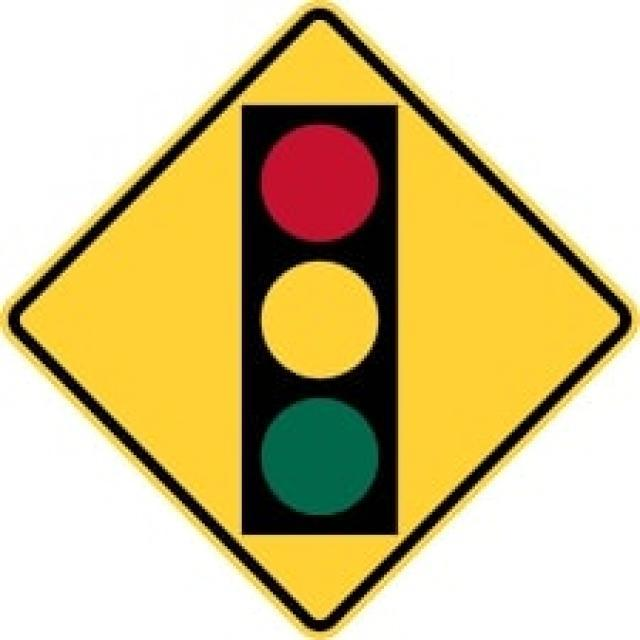Lampu Lalu Lintas: (4, 4, 634, 637)
